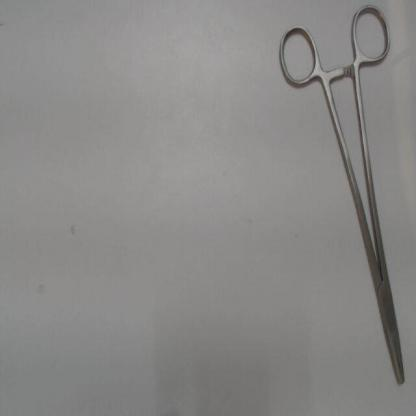8 Mayo Needle Holder: (268, 0, 413, 400)
